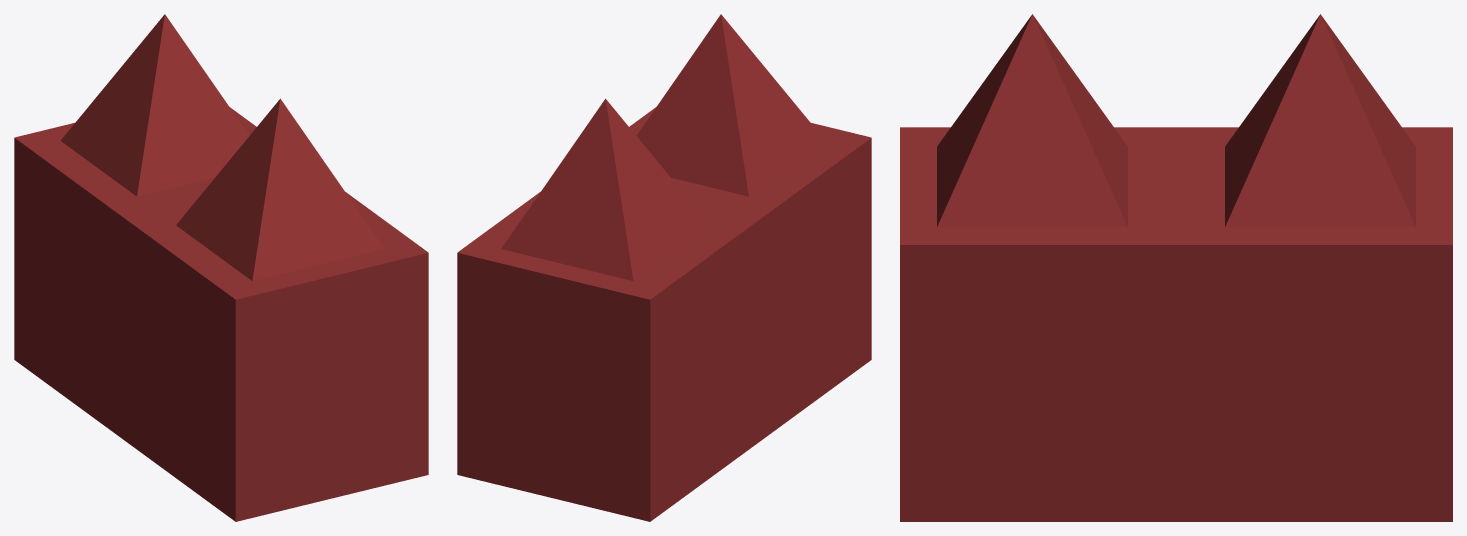
File: trap_4.fbx
3 renders of one model, left to right at view 1: azimuth 30°, elevation 25°; view 2: azimuth 150°, elevation 25°; view 3: azimuth 270°, elevation 25°, orthographic. The views are drawn at different scales.
Visible parts, largest first — view 1: Cube.001, Cube.003, Cube.002; view 2: Cube.001, Cube.002, Cube.003; view 3: Cube.001, Cube.002, Cube.003.
Part boxes in pixels (x1=…): Cube.001: x1=14, y1=107, x2=428, y2=521; Cube.003: x1=176, y1=98, x2=384, y2=281; Cube.002: x1=60, y1=14, x2=249, y2=196; Cube.001: x1=457, y1=107, x2=871, y2=521; Cube.002: x1=501, y1=98, x2=709, y2=281; Cube.003: x1=636, y1=14, x2=825, y2=196; Cube.001: x1=900, y1=127, x2=1452, y2=521; Cube.002: x1=1225, y1=14, x2=1415, y2=227; Cube.003: x1=937, y1=14, x2=1127, y2=227.
Bounding box in the file's own units: 99.97 × 179 × 199.
